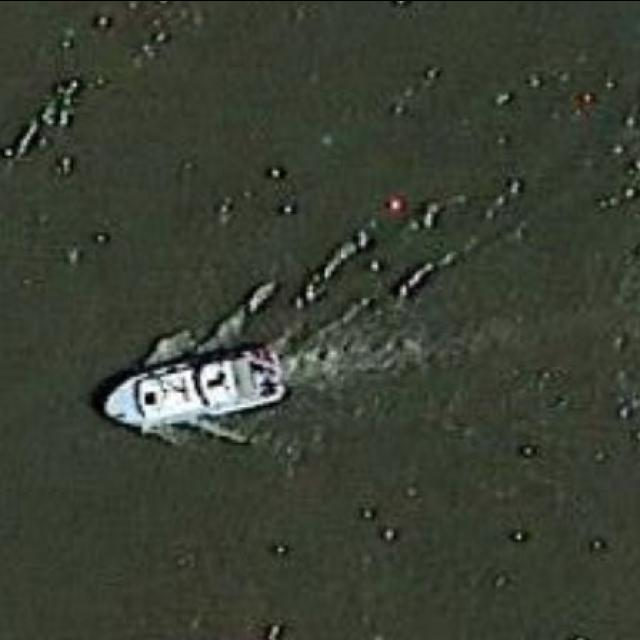ship: (97, 338, 287, 442)
